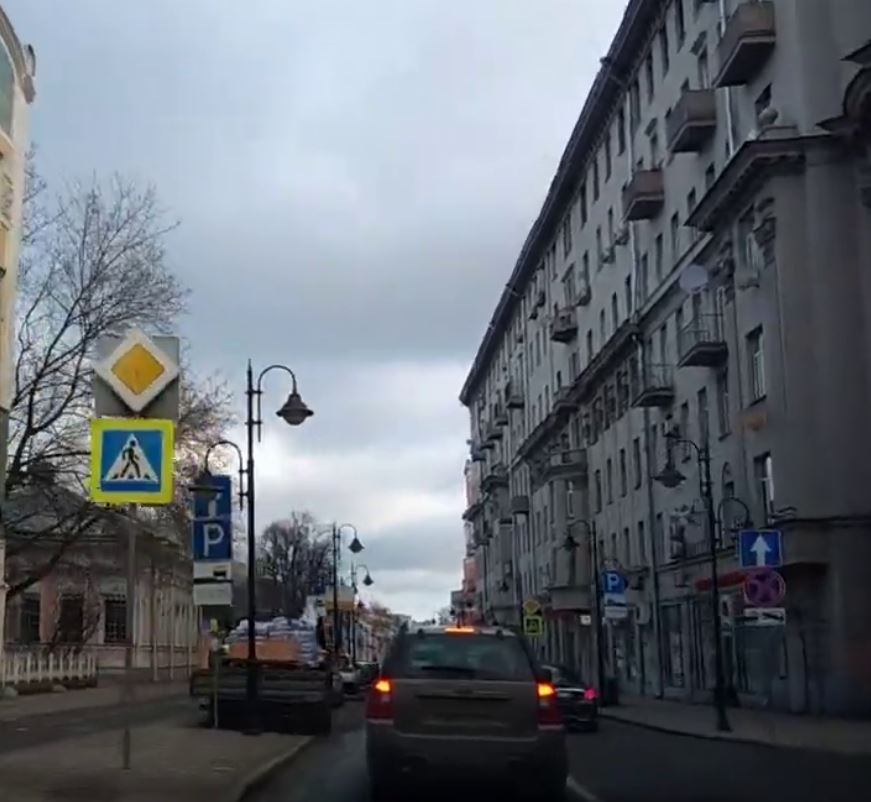Yaya Gecidi: (103, 430, 161, 488)
